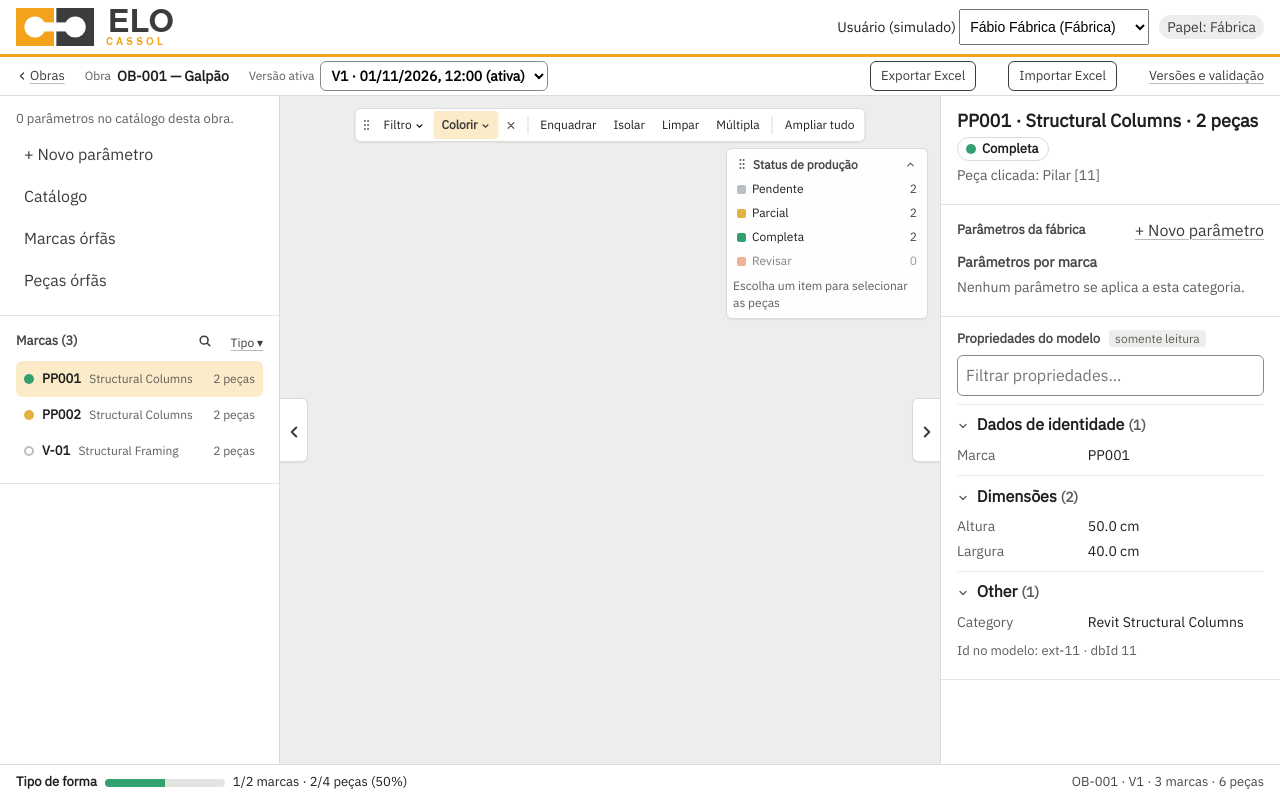
Tela do modelo › filtro e grupos recolhíveis nas propriedades do modelo
The width and height of the screenshot is (1280, 800).
Expected: the heading "Marcas (3)" is shown, [16,332,78,349]
Click the button "Dimensões (2)" at (1017,496), box [957,476,1264,516]
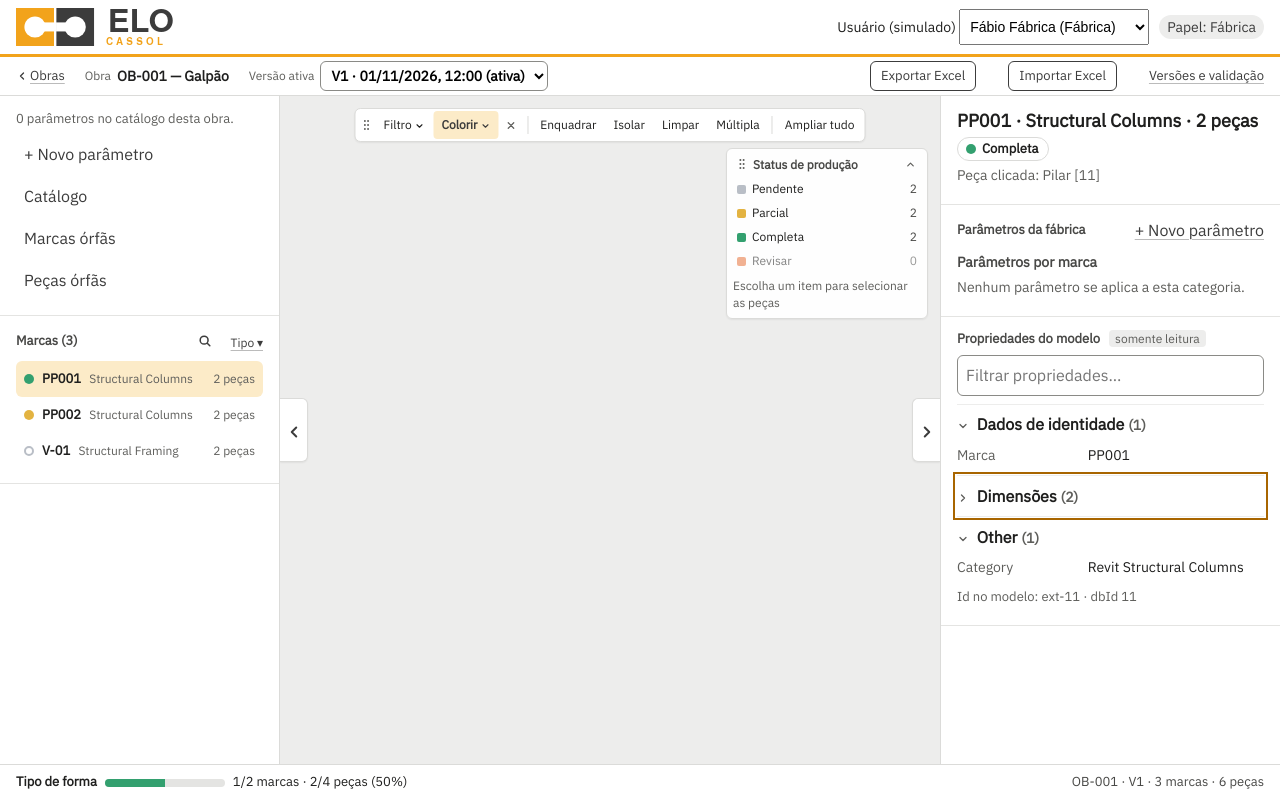
Type "altura" into the search field labelled "Filtrar propriedades" at (1110,376), box [957,355,1264,396]
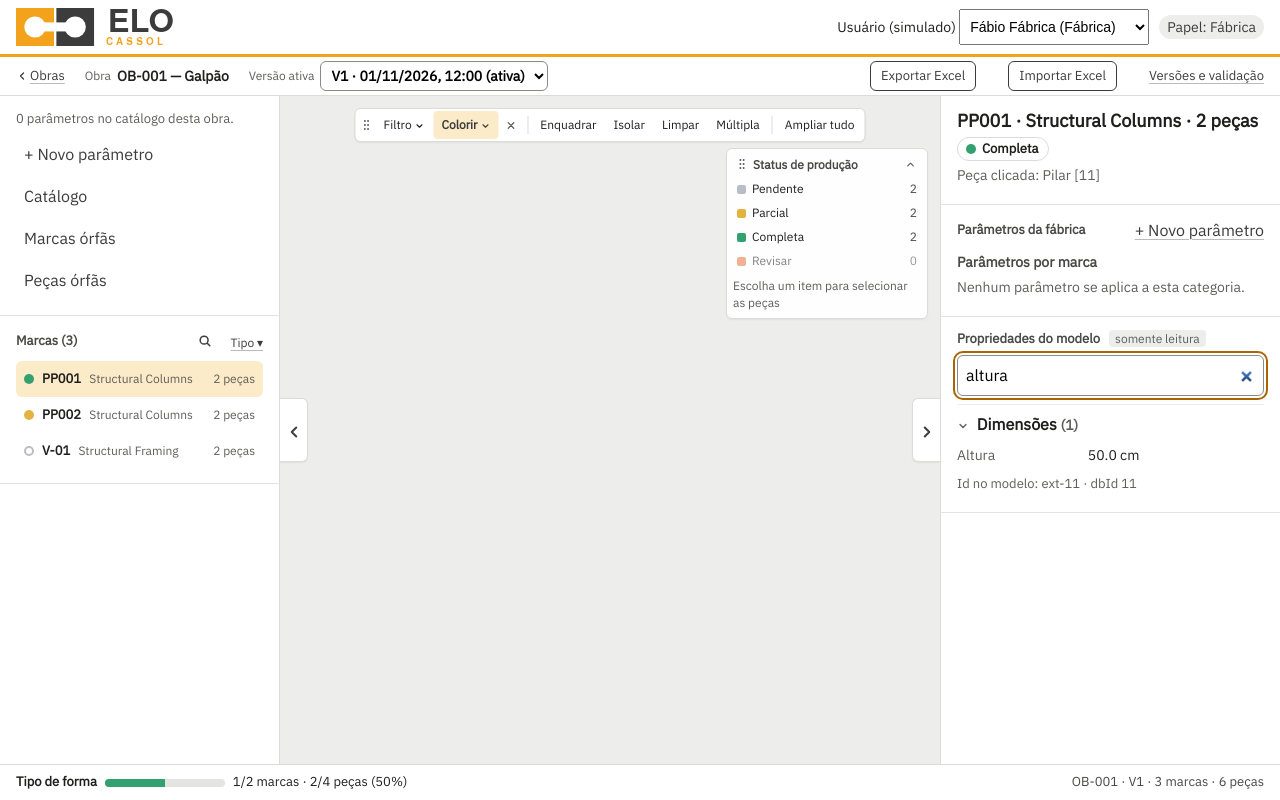
Result: the element named "Dimensões" does not show "Largura" at [957,446,1139,464]
Result: the element named "Dimensões" reads "Altura 50.0 cm" at [957,446,1139,464]
Result: the button "Other" is gone
Replace the text in the search field named "Filtrar propriedades" with "xyz" at (1110,376), box [957,355,1264,396]
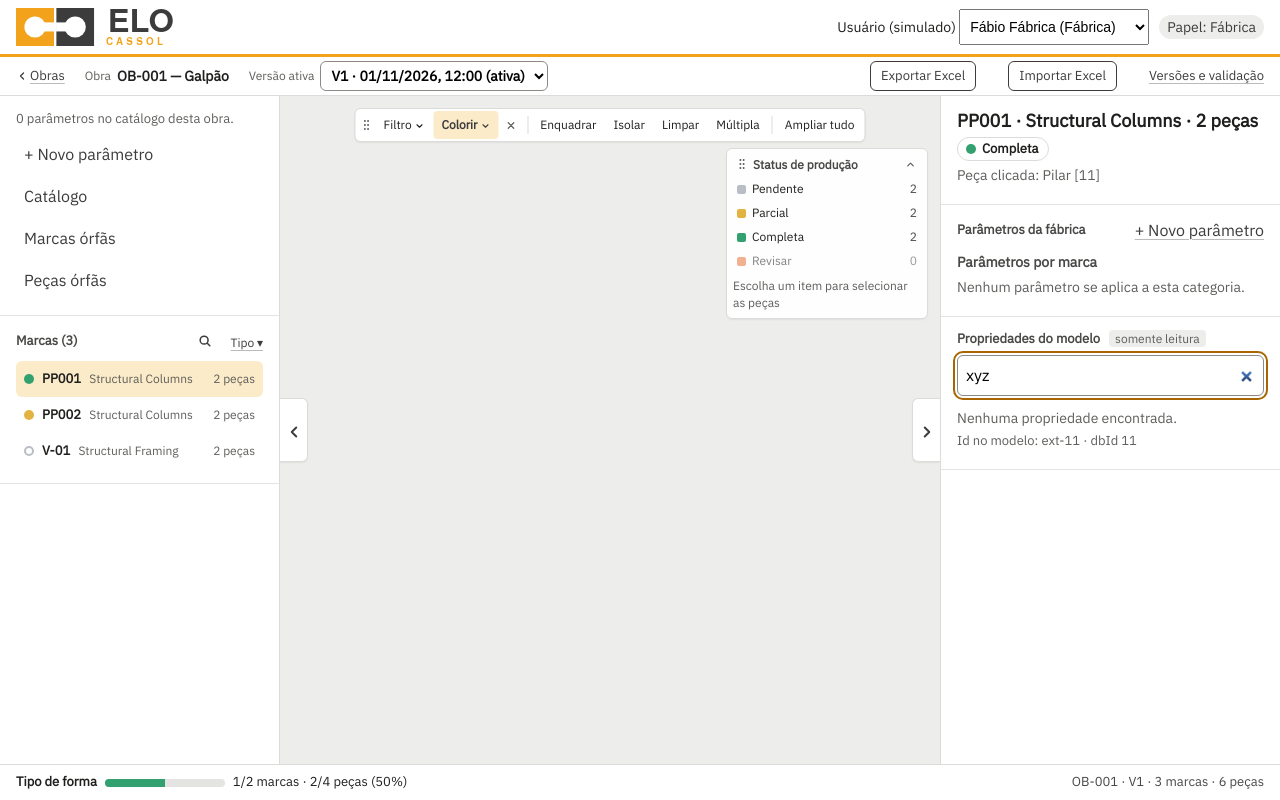
Result: the text "Nenhuma propriedade encontrada." is shown at [957,409,1177,427]
